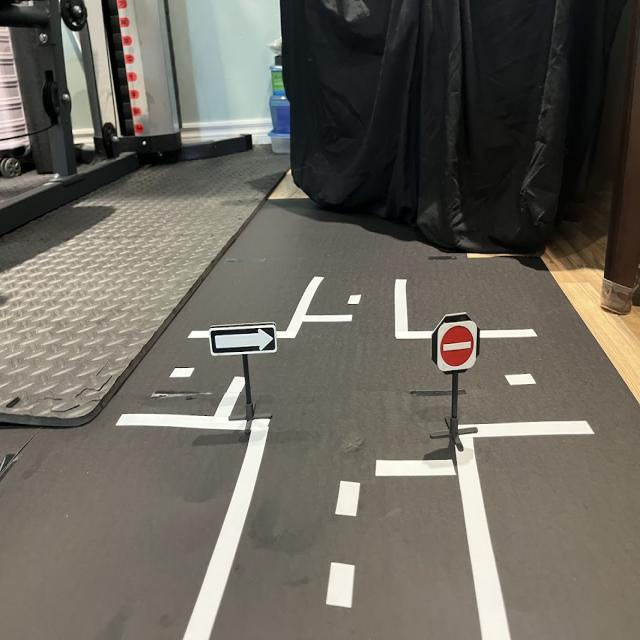sign_noentry: (436, 319, 483, 375)
sign_oneway_right: (211, 319, 282, 361)
